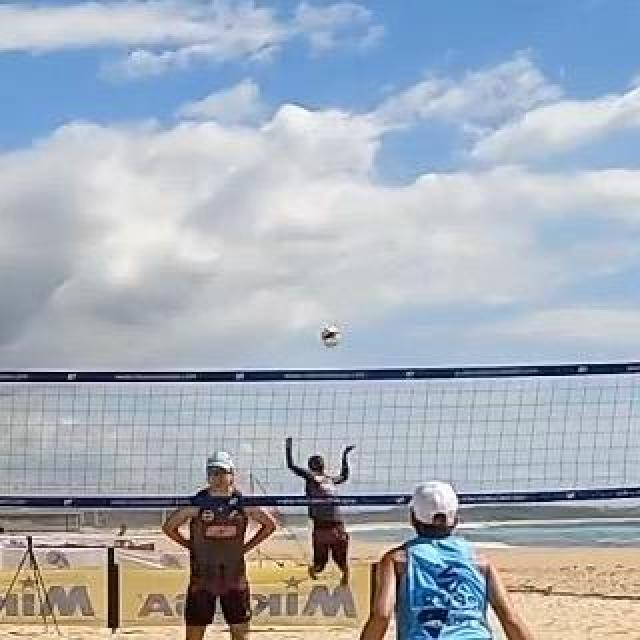volleyball: (321, 325, 341, 347)
